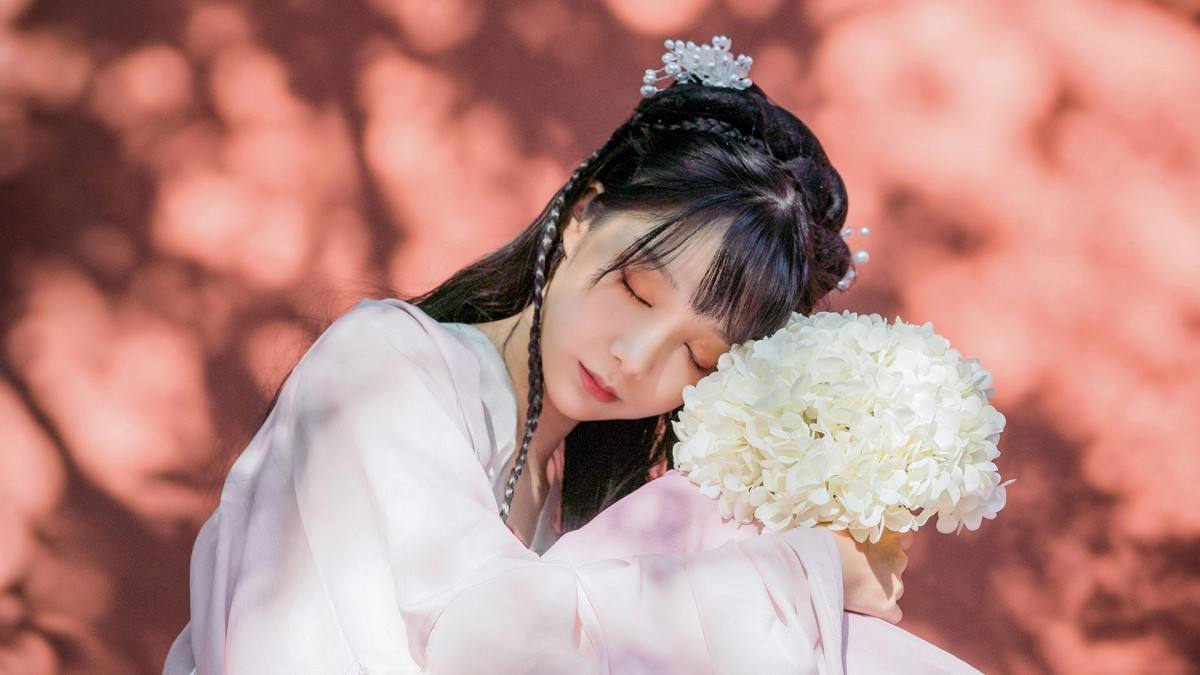person: (477, 53, 854, 468)
